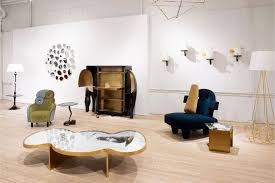Chair: (160, 81, 221, 136), (27, 86, 58, 131)
Lamp: (241, 49, 275, 142), (4, 59, 25, 103), (202, 51, 218, 65), (159, 50, 172, 64), (230, 46, 241, 61), (178, 44, 188, 57)
Table: (22, 125, 146, 183), (59, 101, 82, 126), (8, 91, 25, 108)
